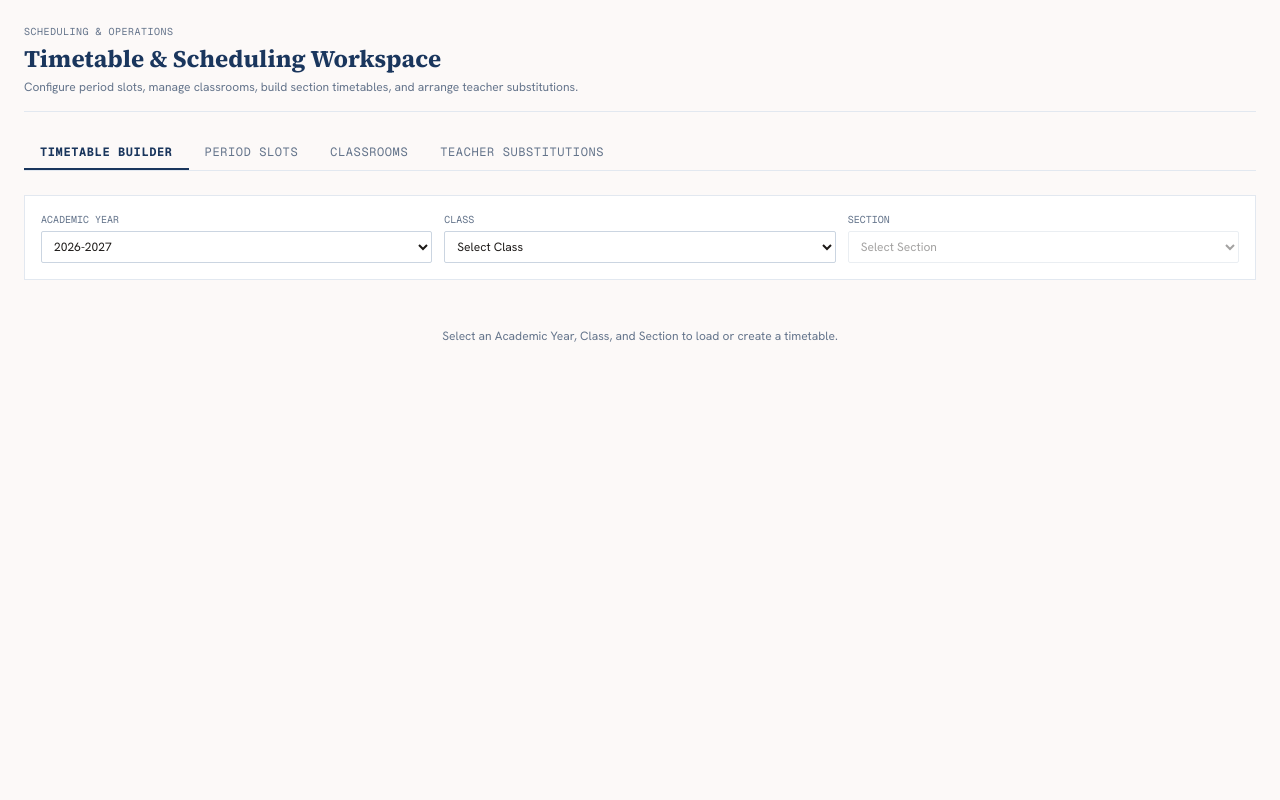
Scenario: TimetablePage Component › renders timetable grid with entries after selecting section
Expected: the dropdown labelled "Academic Year" shows "2026-2027", 41,231 -> 432,263
// Select class
Select "Class 5" in the dropdown labelled "Class" at (640, 247), box 444,231 -> 836,263
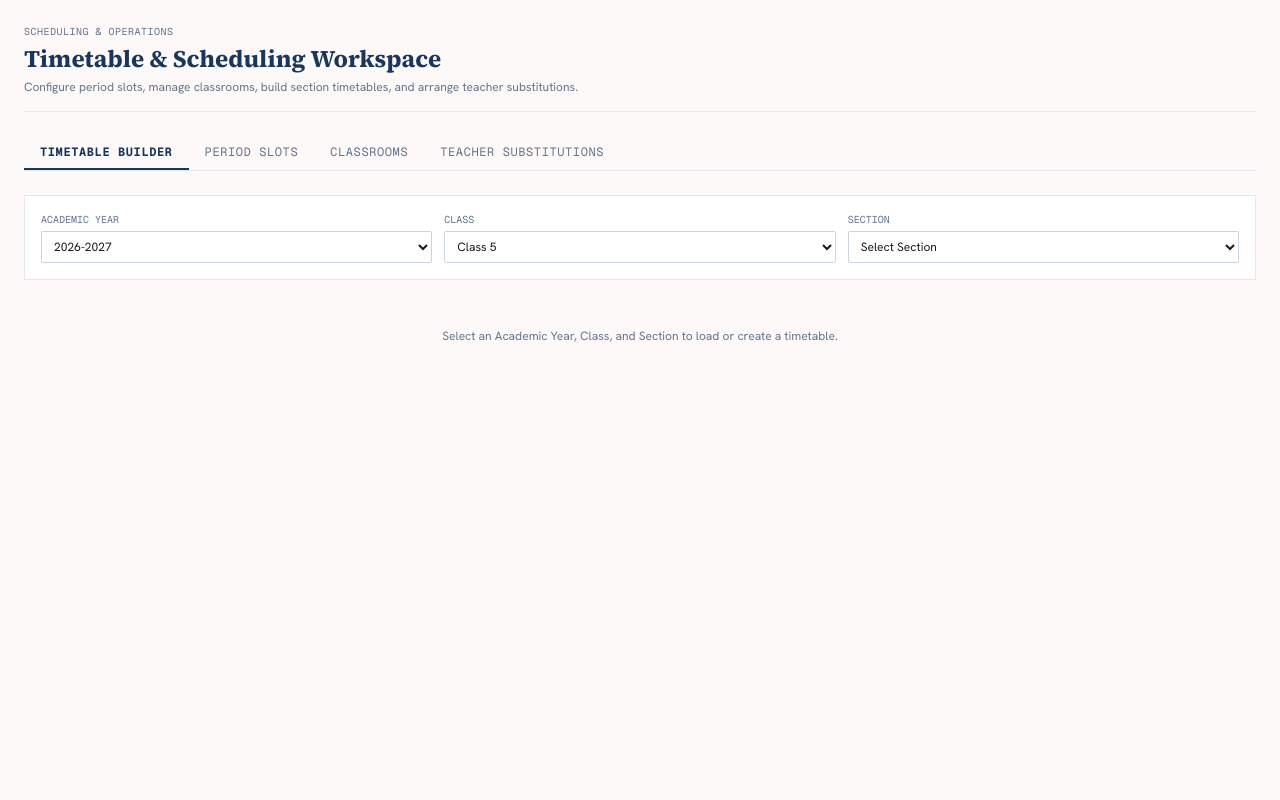
Now the dropdown labelled "Section" is enabled
Select "A" in the dropdown labelled "Section" at (1043, 247), box 848,231 -> 1239,263
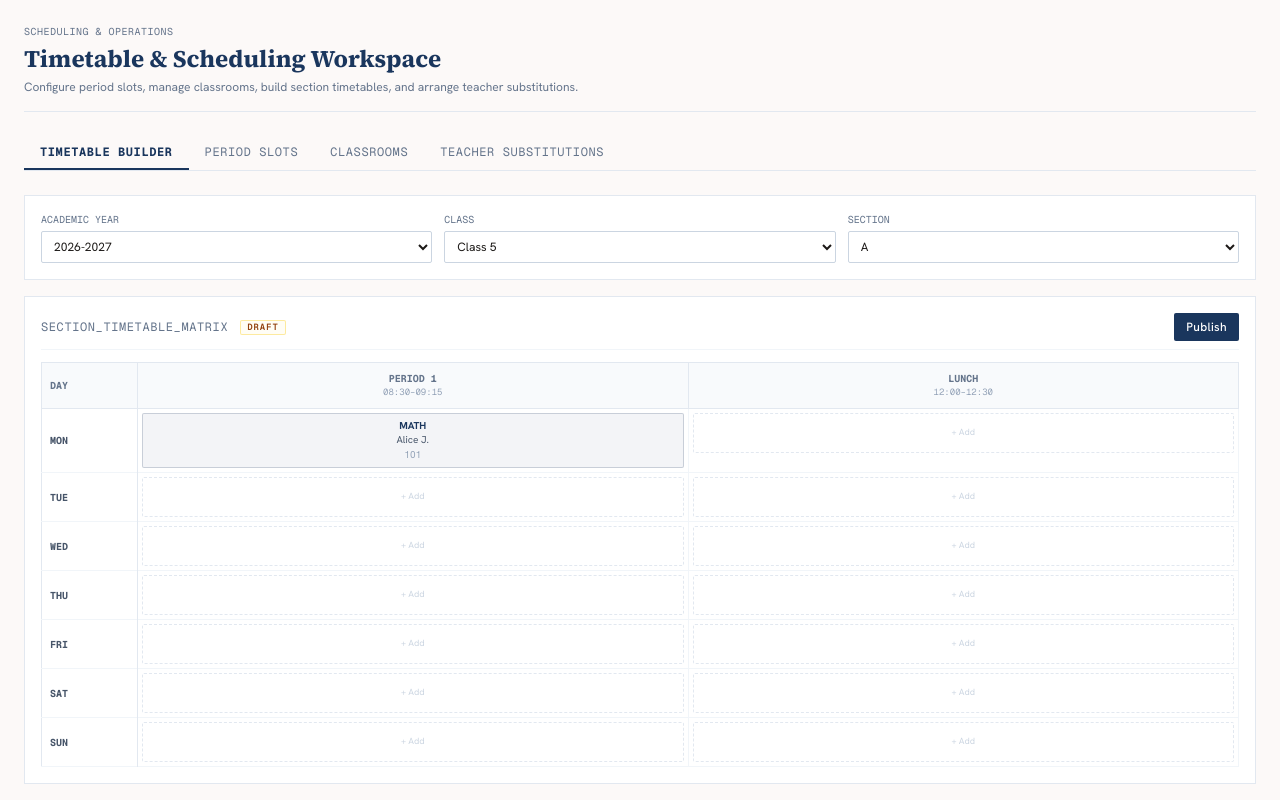
Now the text "MATH" is shown, box 399,418 -> 426,432
